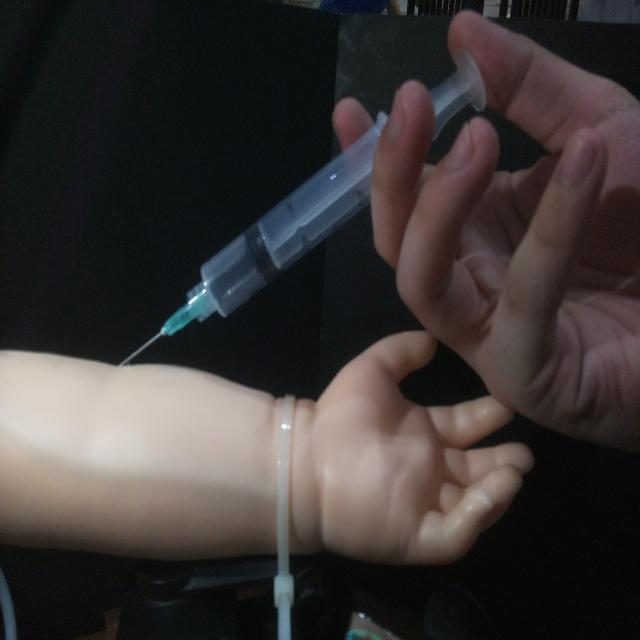30deg: (113, 47, 489, 369)
